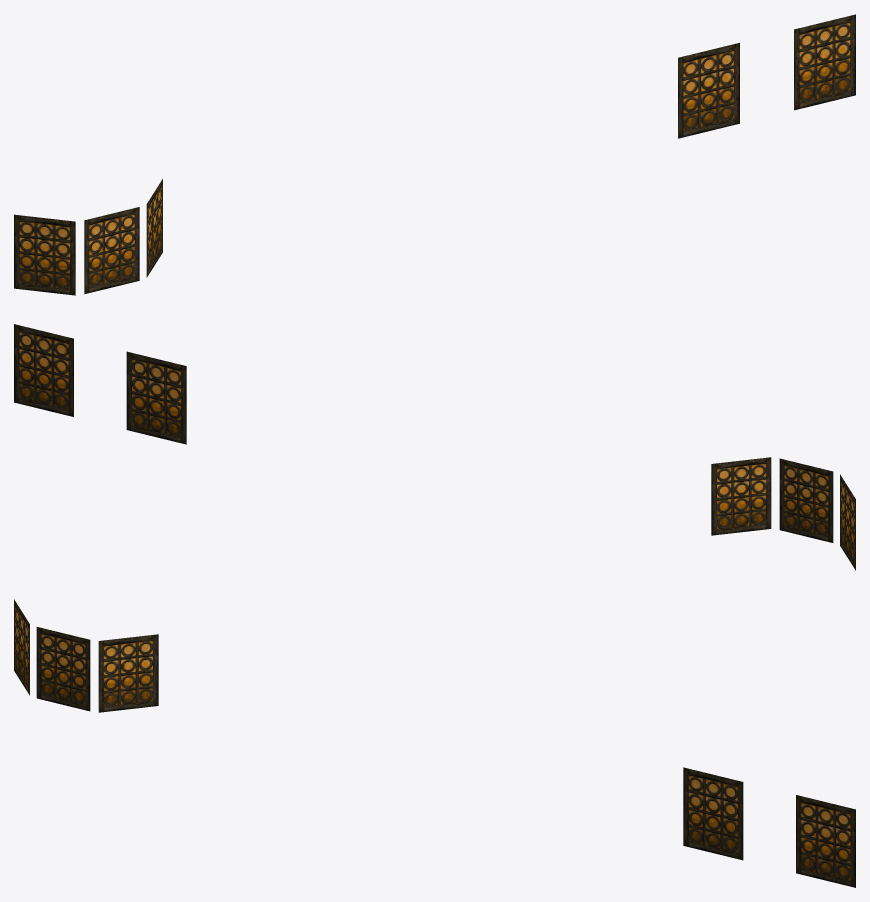
Rendered from LAKETOWN_EXTERIOR_PS_LT_WINDOWS1881.fbx.
3 views of the same model, one above another, from view 1: azimuth 30°, elevation 25°; view 2: azimuth 150°, elevation 25°; view 3: azimuth 330°, elevation 25° (orthographic). The views are drawn at different scales.
Parts seen in each view (by area): view 1: LAKETOWN_EXTERIOR_PS_LT_WINDOWS1881; view 2: LAKETOWN_EXTERIOR_PS_LT_WINDOWS1881; view 3: LAKETOWN_EXTERIOR_PS_LT_WINDOWS1881.
Part boxes in pixels (left/top/right/bottom): LAKETOWN_EXTERIOR_PS_LT_WINDOWS1881: left=14, top=14, right=855, bottom=295; LAKETOWN_EXTERIOR_PS_LT_WINDOWS1881: left=14, top=324, right=855, bottom=570; LAKETOWN_EXTERIOR_PS_LT_WINDOWS1881: left=14, top=599, right=855, bottom=887.
Size of the model in its own units: 161892 by 17935 by 12054.
1 material, 1 textured.
